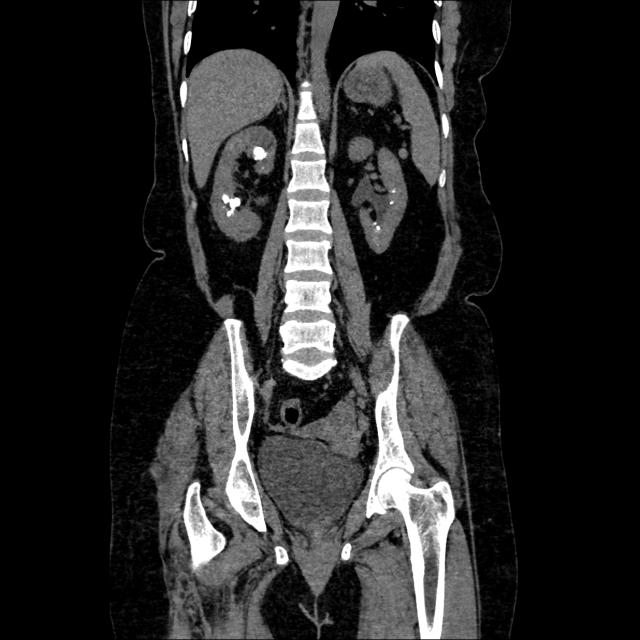kidney: (210, 124, 279, 244), (355, 146, 408, 254)
stone: (252, 146, 268, 160), (229, 196, 242, 209), (222, 193, 230, 204), (226, 210, 232, 218), (388, 200, 394, 205), (376, 226, 381, 230), (392, 190, 397, 194)
